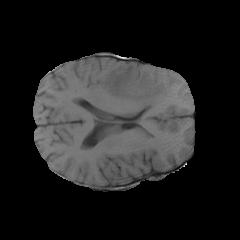glioma: (102, 63, 171, 111)
